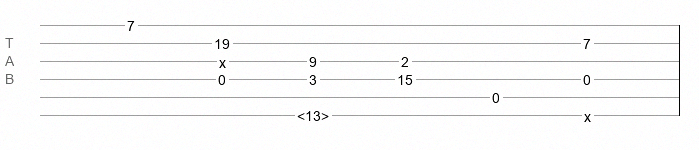0: (218, 72, 226, 82), (492, 90, 500, 100), (583, 72, 591, 82)
15: (397, 72, 413, 82)
19: (214, 36, 230, 46)
2: (401, 54, 409, 64)
3: (309, 72, 317, 82)
7: (127, 18, 135, 28), (583, 36, 591, 46)
9: (309, 54, 317, 64)
harmonic: (297, 108, 329, 118)
x: (219, 55, 226, 63), (584, 109, 591, 117)
